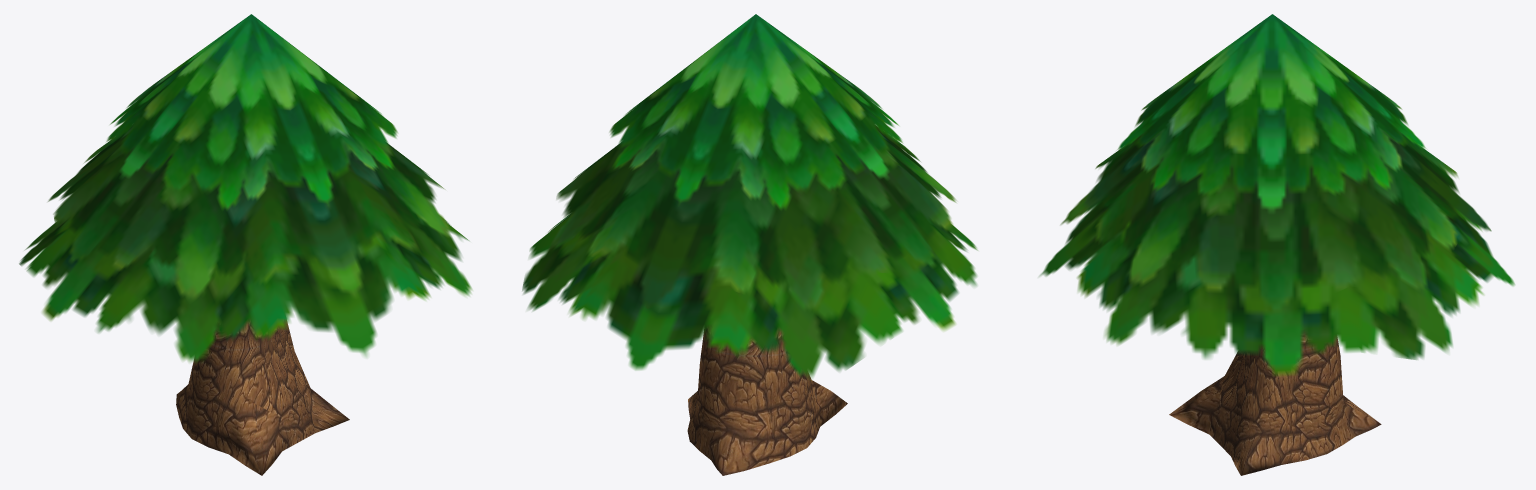
Rendered from plaza_tree.glb.
3 views of the same model, side by side, from view 1: azimuth 30°, elevation 25°; view 2: azimuth 150°, elevation 25°; view 3: azimuth 270°, elevation 25° (orthographic).
Parts seen in each view (by area): view 1: Tree; view 2: Tree; view 3: Tree.
Boxes of the visible parts, x1,y1,x2,y2 form: Tree: (19, 14, 472, 475); Tree: (522, 14, 977, 475); Tree: (1039, 14, 1514, 475).
Size of the model in its own units: 7.29 by 6.79 by 7.29.
Materials: 2 (2 with a texture image).
